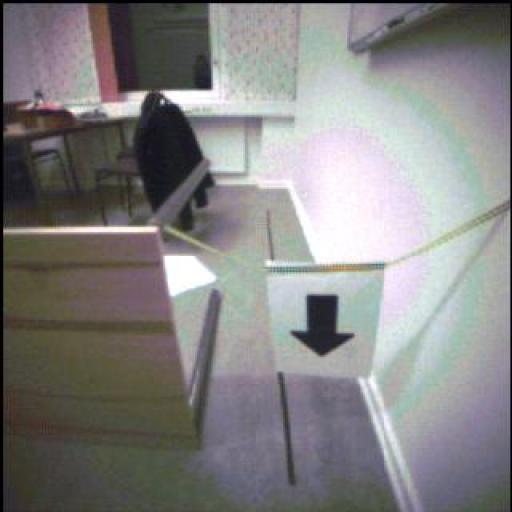arrow: (292, 296, 355, 357)
